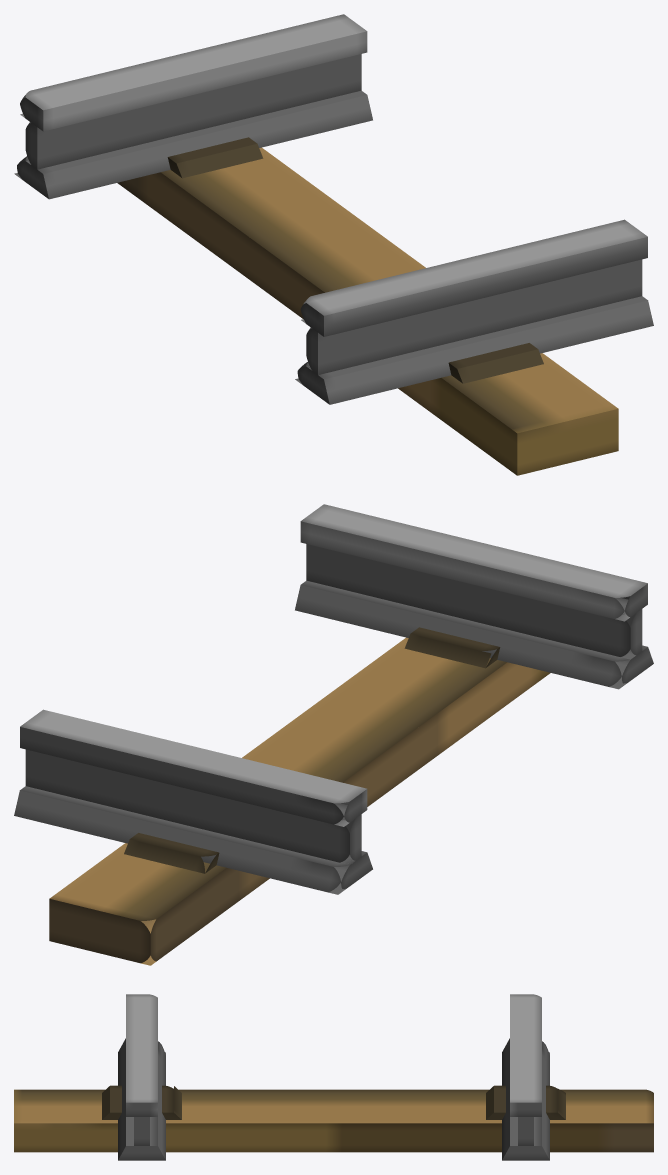
Rendered from vanilla_track.obj.
The picture shows the model from 3 angles, top to bottom: view 1: azimuth 30°, elevation 25°; view 2: azimuth 150°, elevation 25°; view 3: azimuth 270°, elevation 25°; orthographic projection. The views are drawn at different scales.
Parts seen in each view (by area): view 1: RAIL_BASE, RAIL_RIGHT, RAIL_LEFT; view 2: RAIL_BASE, RAIL_RIGHT, RAIL_LEFT; view 3: RAIL_BASE, RAIL_RIGHT, RAIL_LEFT.
Part boxes in pixels (x1,y1,x2,y2): RAIL_BASE: (117,137,618,475); RAIL_RIGHT: (14,14,372,199); RAIL_LEFT: (295,219,653,404); RAIL_BASE: (49,627,550,965); RAIL_RIGHT: (14,709,372,894); RAIL_LEFT: (295,504,653,689); RAIL_BASE: (14,1085,653,1152); RAIL_RIGHT: (502,994,549,1160); RAIL_LEFT: (118,994,165,1160).
Bounding box in the file's own units: 1 × 0.375 × 2.5.
1 material, 1 textured.
